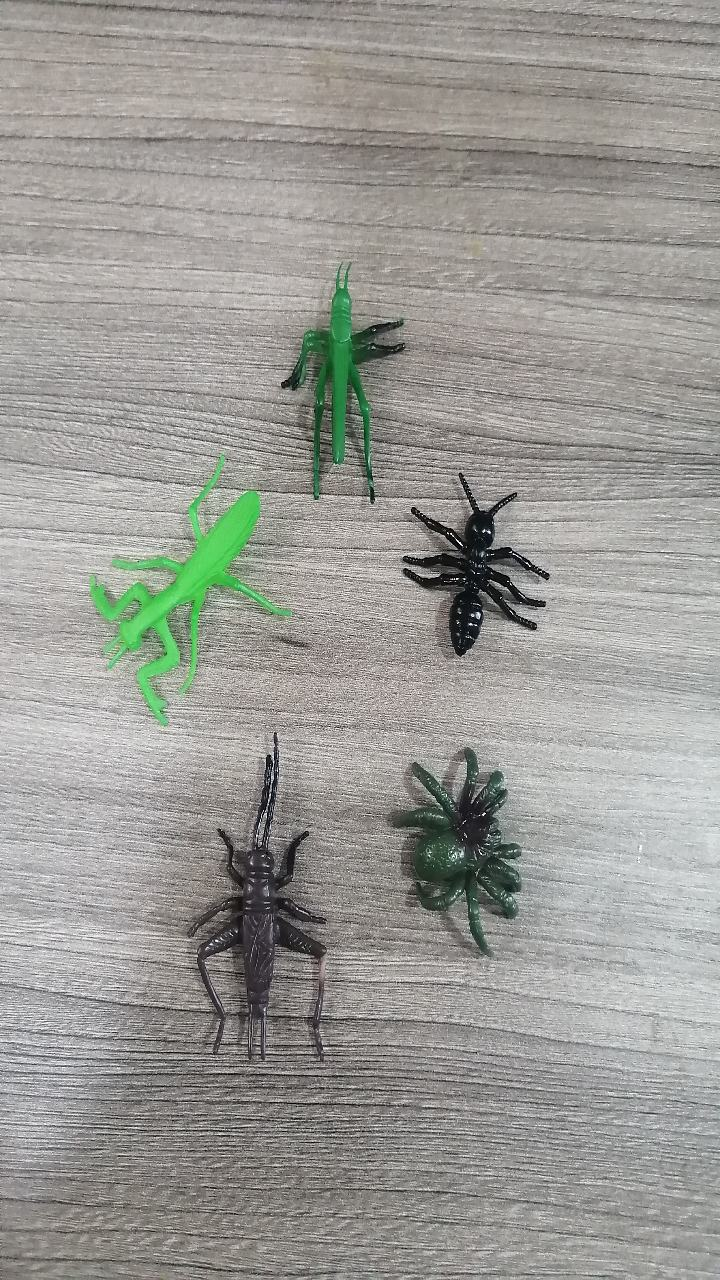intruso: (160, 723, 357, 1083), (52, 442, 303, 717), (371, 712, 569, 972), (248, 226, 409, 517), (395, 479, 569, 671)
